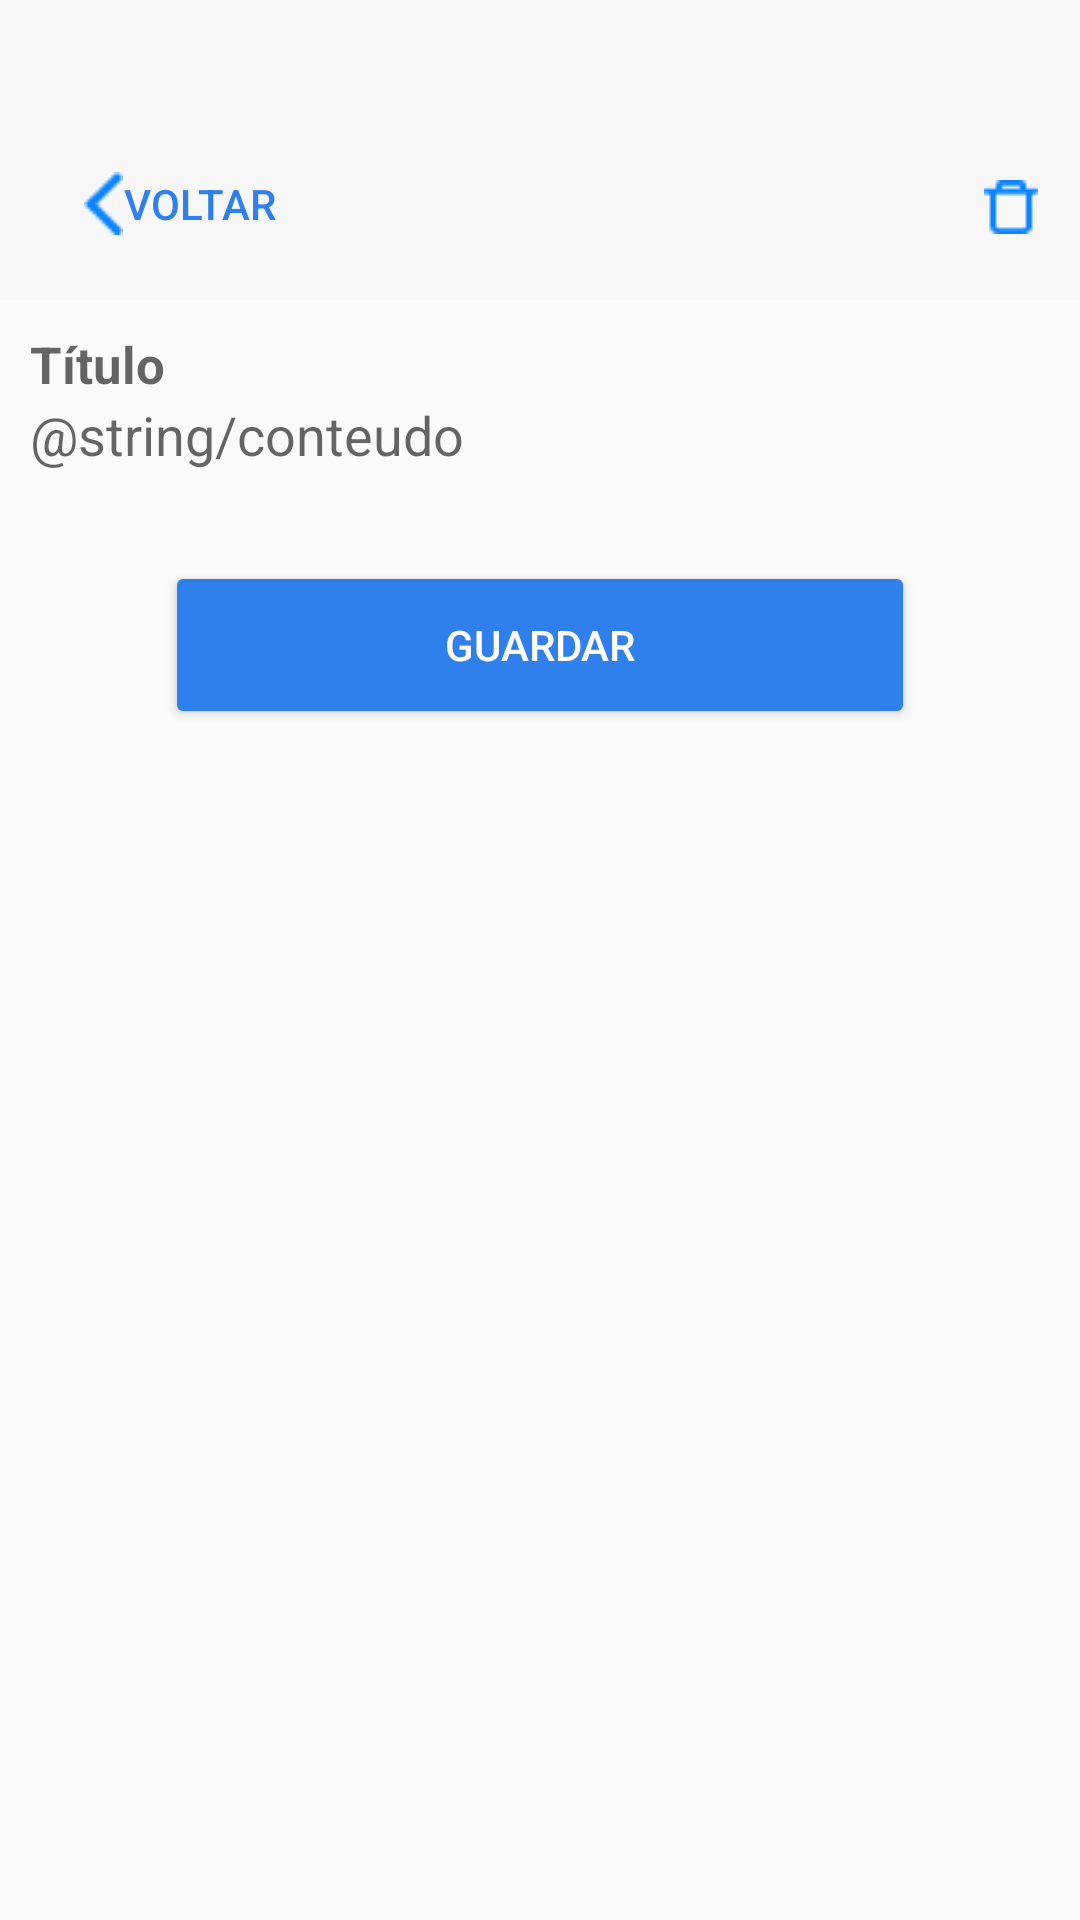

Where icons sit on this 1080*1920 app screen, as (left=x1, top=y1, right=x2, bottom=y2):
eliminar: (left=984, top=180, right=1038, bottom=234)
